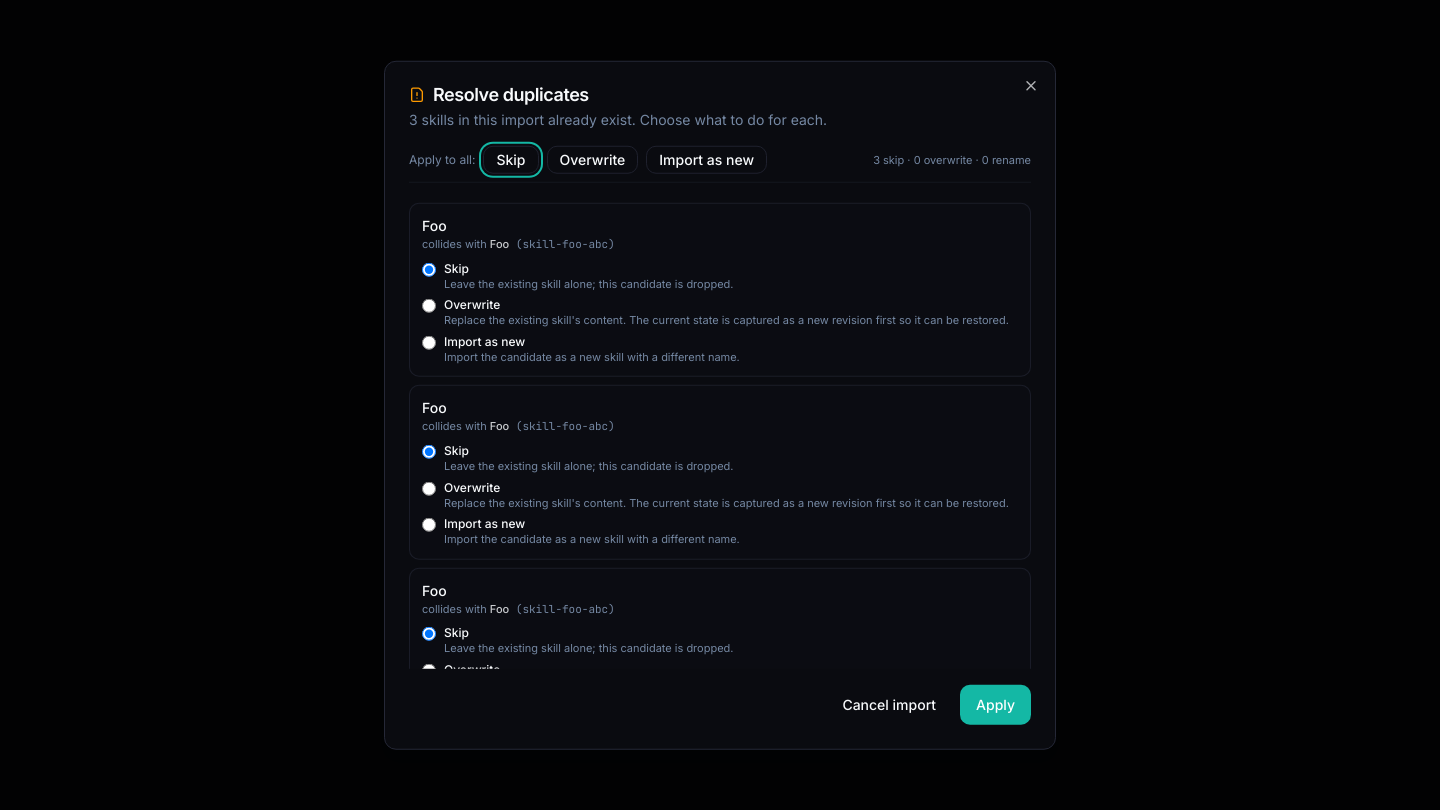
Test case: ImportConflictDialog — bulk apply › 'Apply to all: Overwrite' switches every row at once
The image size is (1440, 810).
Click the button with test id "import-conflicts-apply-all-overwrite" at (592, 160), box [546,146,638,174]
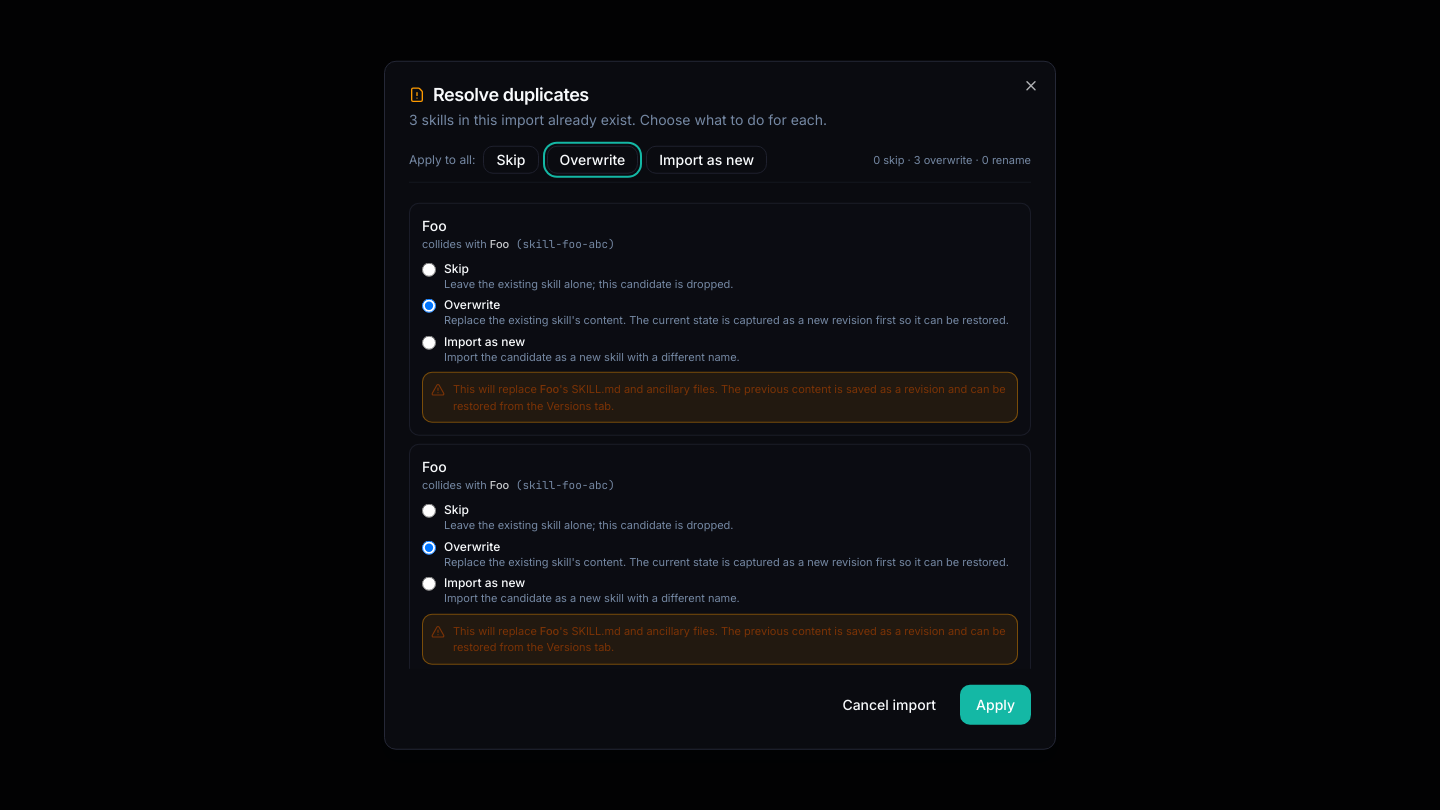
Expected: the radio button with test id "import-conflict-a-overwrite" is checked, [422,299,436,313]
Expected: the radio button with test id "import-conflict-b-overwrite" is checked, [422,540,436,554]
